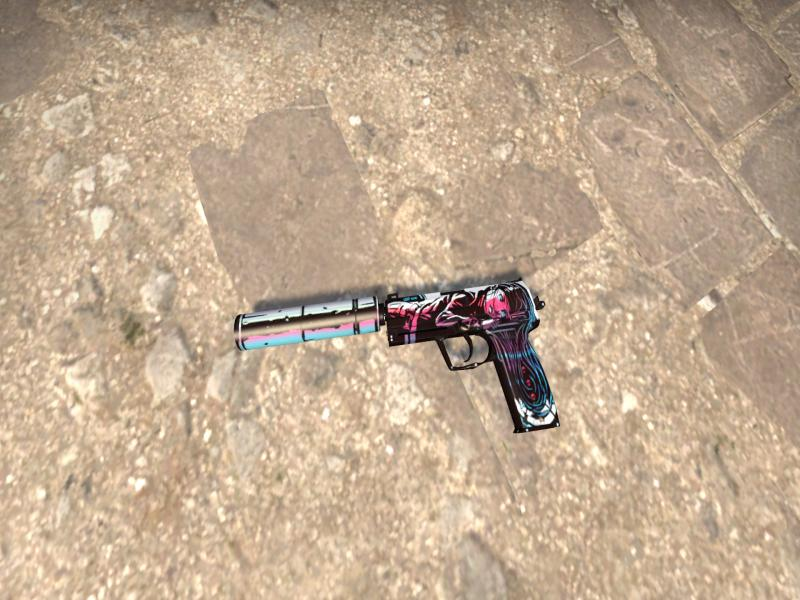USP: (234, 279, 560, 432)
